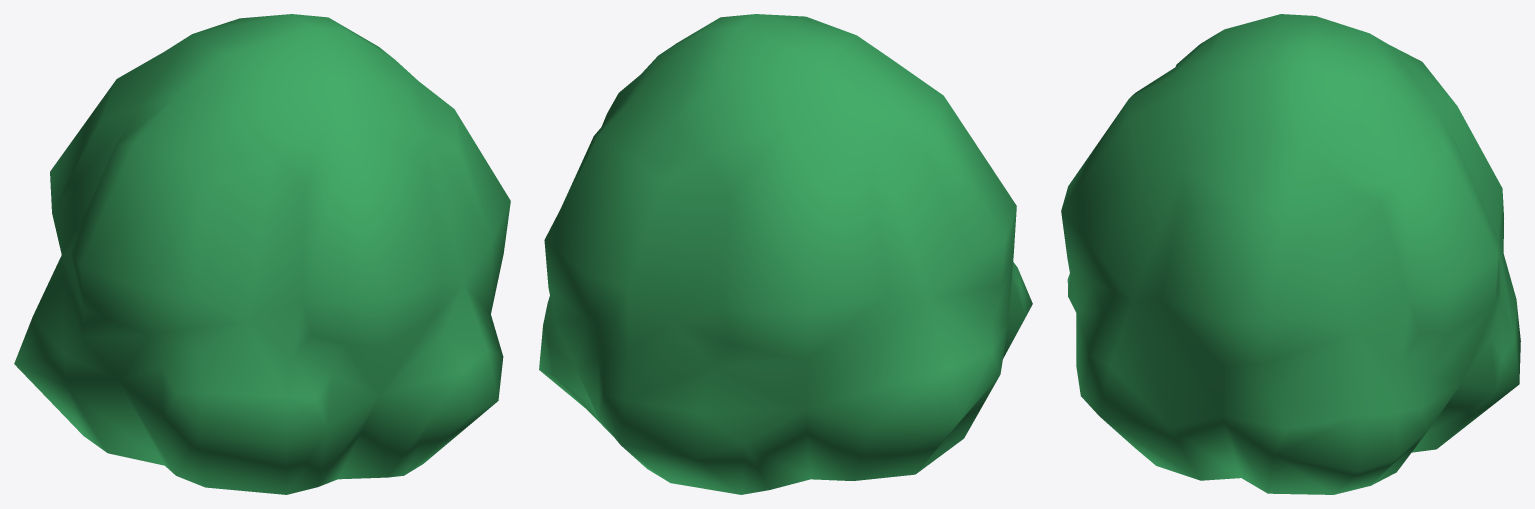
Rendered from Tree_Top_D_03_LOD2.gltf.
3 renders of one model, left to right at view 1: azimuth 30°, elevation 25°; view 2: azimuth 150°, elevation 25°; view 3: azimuth 270°, elevation 25°, orthographic. The views are drawn at different scales.
Visible parts, largest first — view 1: Tree_Top_D_03_LOD2_Cylinder.664; view 2: Tree_Top_D_03_LOD2_Cylinder.664; view 3: Tree_Top_D_03_LOD2_Cylinder.664.
Part boxes in pixels (left/top/right/bottom): Tree_Top_D_03_LOD2_Cylinder.664: left=14, top=14, right=510, bottom=494; Tree_Top_D_03_LOD2_Cylinder.664: left=539, top=14, right=1032, bottom=494; Tree_Top_D_03_LOD2_Cylinder.664: left=1061, top=14, right=1520, bottom=494.
Bounding box in the file's own units: 6.58 × 6.08 × 6.27.
1 material, 1 textured.
